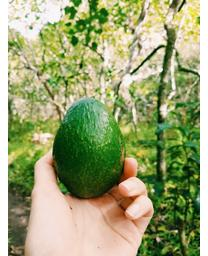avocado: (51, 96, 126, 200)
